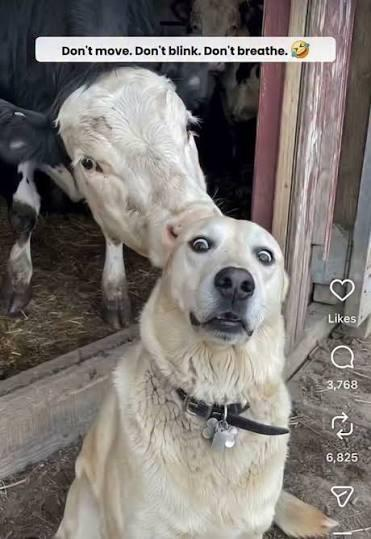adult_dog: (51, 211, 335, 539)
non-dog: (1, 1, 226, 331)
